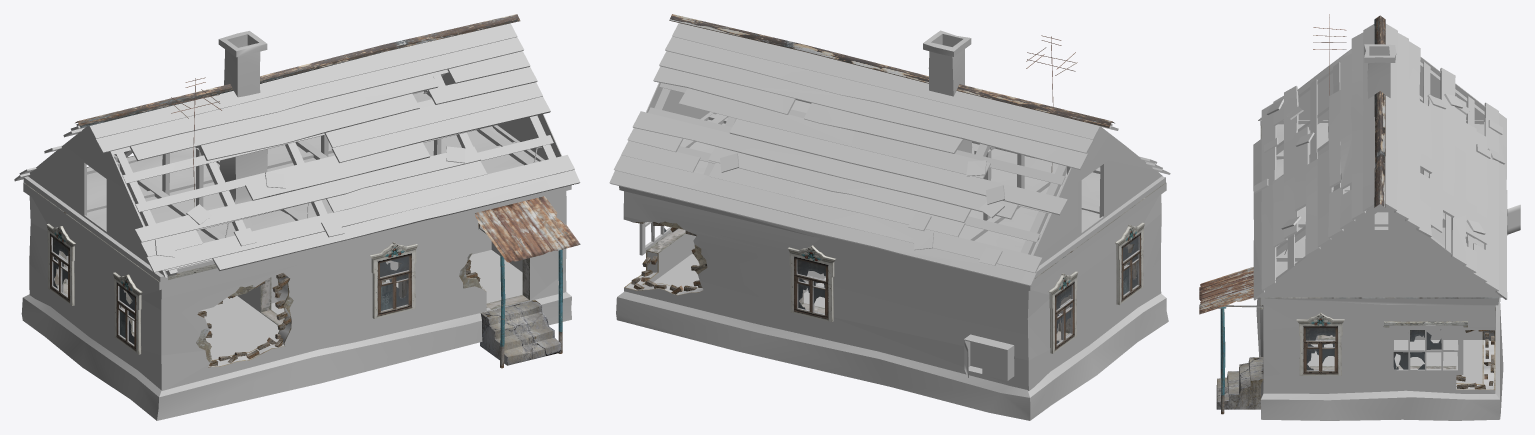
File: Houses_Ready_08_Damaged.FBX
The picture shows the model from 3 angles, left to right: view 1: azimuth 30°, elevation 25°; view 2: azimuth 150°, elevation 25°; view 3: azimuth 270°, elevation 25°; orthographic projection. The views are drawn at different scales.
Visible parts, largest first — view 1: Roof_03, Corps_01_1_Damaged, Attic_02, Foundation_02, Porch_02_1, Chimney_03, Porch_02_2, Windows_03_2 (×2), Peak_02, Windows_03, Bricks; view 2: Roof_03, Corps_01_1_Damaged, Foundation_02, Attic_02, Windows_03 (×2), Peak_02, Chimney_03, Electrical_Box_02_Open, Windows_03_2, Bricks; view 3: Roof_03, Attic_02, Corps_01_1_Damaged, Foundation_02, Porch_02_1, Porch_02_2, Windows_Big_04, Windows_03, Peak_02, Chimney_03, Bricks, Electrical_Box_02_Open.
Part boxes in pixels (x1,y1,x2,y2): Roof_03: (14, 23, 580, 272); Corps_01_1_Damaged: (23, 156, 571, 390); Attic_02: (23, 69, 574, 282); Foundation_02: (21, 292, 571, 420); Porch_02_1: (475, 196, 580, 368); Chimney_03: (218, 31, 267, 204); Porch_02_2: (480, 300, 561, 365); Windows_03_2 (×2): (113, 242, 417, 354); Peak_02: (75, 14, 520, 127); Windows_03: (46, 223, 75, 305); Bricks: (197, 259, 480, 366); Roof_03: (609, 23, 1170, 286); Corps_01_1_Damaged: (619, 167, 1166, 390); Foundation_02: (616, 291, 1168, 420); Attic_02: (615, 82, 1165, 277); Windows_03 (×2): (787, 245, 1078, 353); Peak_02: (669, 14, 1114, 127); Chimney_03: (923, 30, 972, 153); Electrical_Box_02_Open: (963, 334, 1014, 380); Windows_03_2: (1115, 222, 1144, 304); Bricks: (631, 221, 702, 294); Roof_03: (1253, 23, 1507, 300); Attic_02: (1253, 49, 1501, 297); Corps_01_1_Damaged: (1260, 125, 1499, 393); Foundation_02: (1256, 297, 1503, 420); Porch_02_1: (1199, 267, 1263, 414); Porch_02_2: (1216, 357, 1263, 409); Windows_Big_04: (1389, 325, 1463, 374); Windows_03: (1296, 312, 1344, 375); Peak_02: (1374, 15, 1385, 207); Chimney_03: (1364, 44, 1396, 98); Bricks: (1456, 330, 1494, 389); Electrical_Box_02_Open: (1506, 190, 1520, 235).
Size of the model in its own units: 1262 by 910 by 834.
